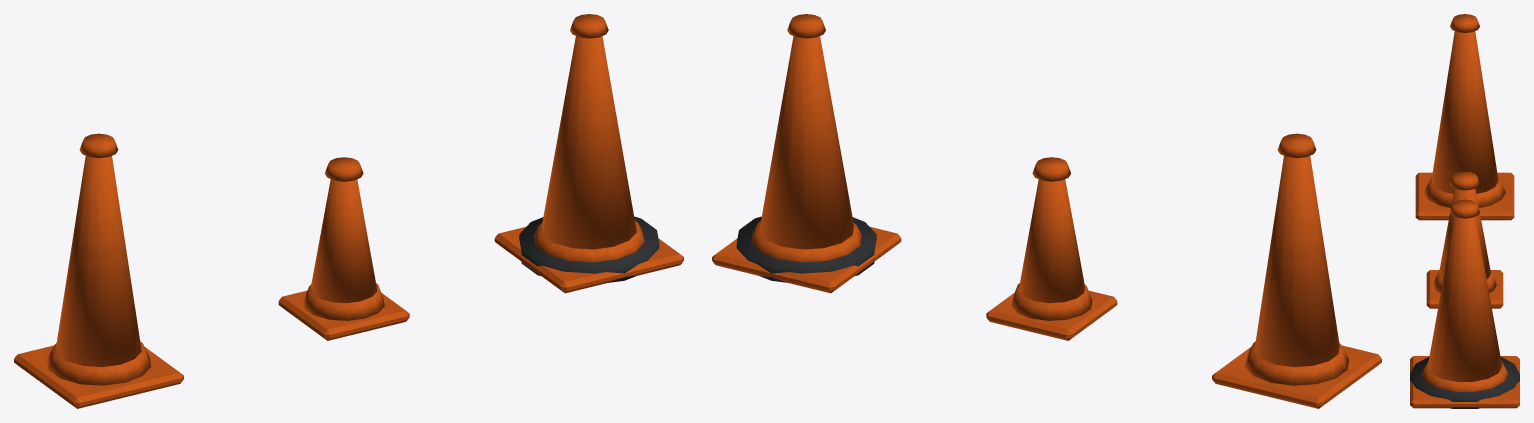
3 renders of one model, left to right at view 1: azimuth 30°, elevation 25°; view 2: azimuth 150°, elevation 25°; view 3: azimuth 270°, elevation 25°, orthographic. The views are drawn at different scales.
Parts seen in each view (by area): view 1: cone_v3, cone_v1, cone_v2; view 2: cone_v3, cone_v1, cone_v2; view 3: cone_v3, cone_v1, cone_v2.
Part boxes in pixels (left/top/right/bottom): cone_v3: left=494, top=14, right=683, bottom=293; cone_v1: left=14, top=133, right=183, bottom=408; cone_v2: left=278, top=157, right=409, bottom=340; cone_v3: left=712, top=14, right=901, bottom=293; cone_v1: left=1212, top=133, right=1381, bottom=408; cone_v2: left=986, top=157, right=1117, bottom=340; cone_v3: left=1410, top=199, right=1519, bottom=408; cone_v1: left=1415, top=14, right=1514, bottom=220; cone_v2: left=1426, top=171, right=1503, bottom=308.
Size of the model in its own units: 1.98 by 0.7305 by 0.4.
2 materials, 2 textured.
